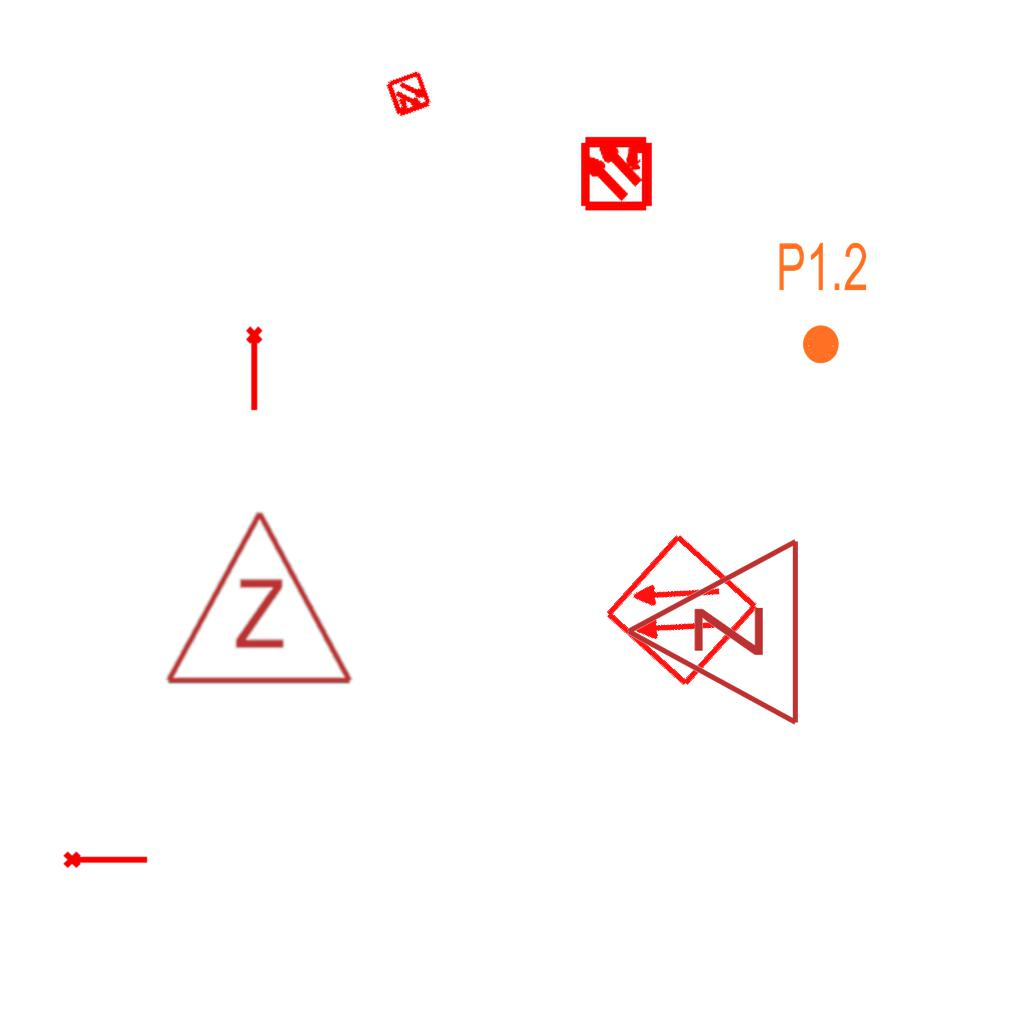ASR_Ansaugoeffnung: (62, 847, 150, 870), (244, 325, 267, 413)
Downlight_LED_Einbauleuchten_Flur: (776, 239, 869, 367)
OT_Multisensormelder_(Kombination_RMO_WMD): (560, 115, 673, 228), (373, 59, 445, 131)
RMO_Rauchmelder_optischer: (601, 530, 762, 691)
Zimmersignalleuchte: (159, 498, 355, 698), (613, 536, 813, 732)
